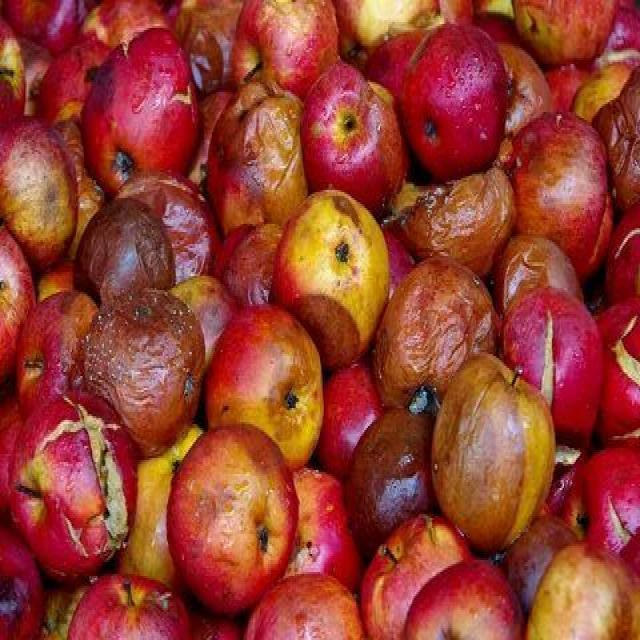Rotten: (424, 350, 558, 534), (14, 400, 140, 578), (164, 426, 294, 596), (206, 310, 328, 460), (82, 306, 200, 454), (74, 50, 204, 180), (200, 78, 308, 228), (270, 208, 388, 342), (390, 260, 494, 406), (300, 64, 406, 190), (406, 28, 502, 166), (346, 418, 450, 540), (506, 132, 608, 250), (406, 176, 514, 266), (6, 124, 76, 256), (92, 208, 176, 302)
